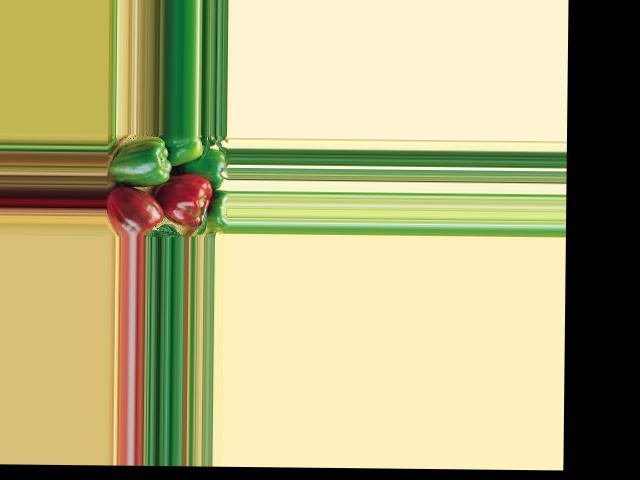bell_pepper: (106, 188, 164, 234)
